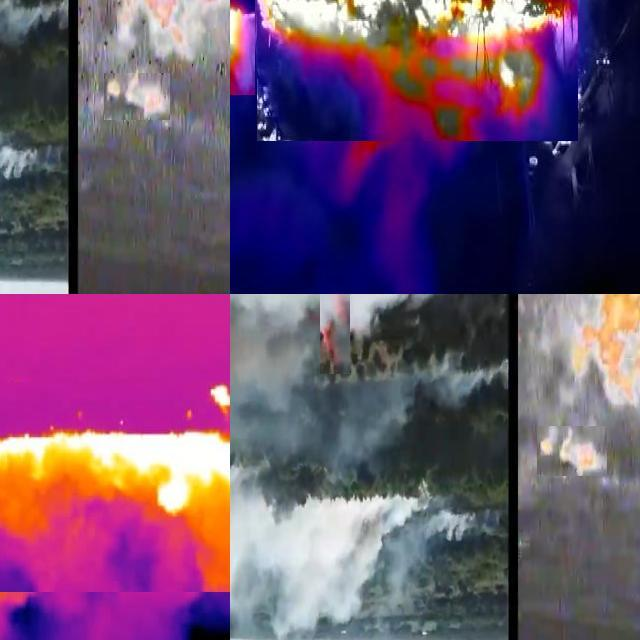fire: (1, 383, 231, 593), (258, 1, 579, 142), (571, 295, 640, 403), (539, 427, 609, 477), (105, 74, 171, 121), (321, 295, 351, 375)
